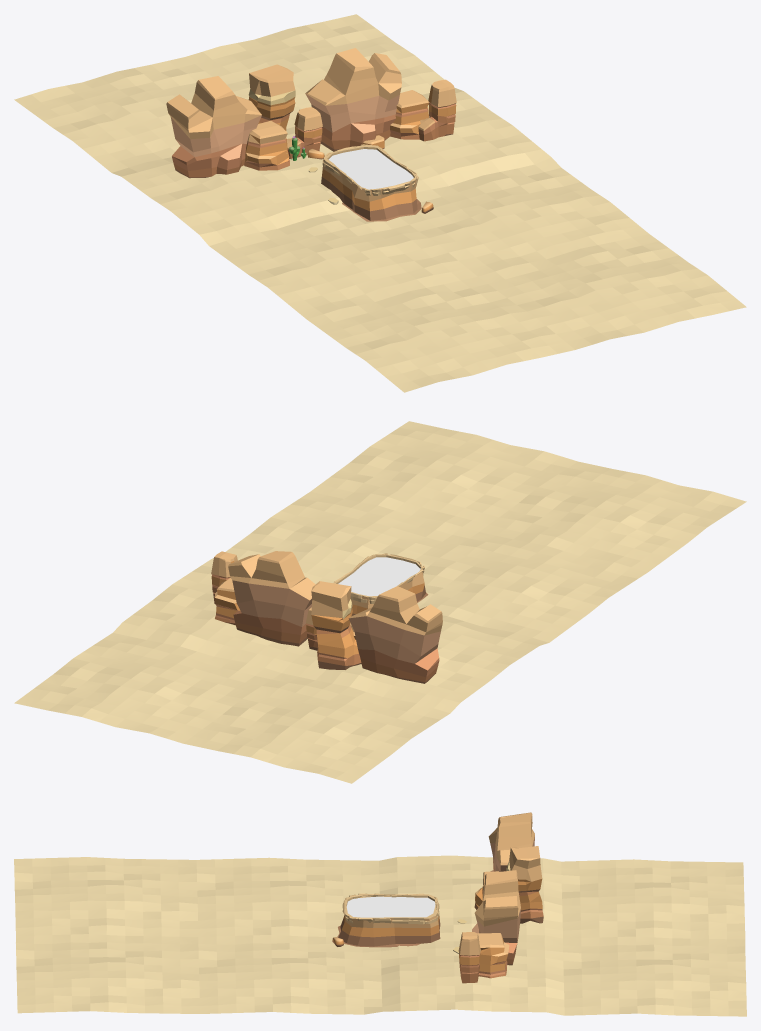
3 views of the same model, one above another, from view 1: azimuth 30°, elevation 25°; view 2: azimuth 150°, elevation 25°; view 3: azimuth 270°, elevation 25° (orthographic). The views are drawn at different scales.
Parts seen in each view (by area): view 1: IceDecor02_0.004, DesertRock01_0.001, DesertRock05_0, DesertRock01_0.002, IceArena_0.003, DesertRock01_0.004, DesertRock01_0.003, DesertSidesBroken_0; view 2: IceDecor02_0.004, DesertRock01_0.001, DesertRock05_0, DesertRock01_0.002, IceArena_0.003, DesertRock01_0.004, DesertRock01_0.003; view 3: IceDecor02_0.004, IceArena_0.003, DesertRock05_0, DesertRock01_0.004, DesertRock01_0.002, DesertRock01_0.001, DesertSidesBroken_0.
Boxes of the visible parts, x1=… form: IceDecor02_0.004: x1=14, y1=14, x2=746, y2=392; DesertRock01_0.001: x1=166, y1=76, x2=433, y2=213; DesertRock05_0: x1=305, y1=48, x2=401, y2=151; DesertRock01_0.002: x1=244, y1=64, x2=322, y2=170; IceArena_0.003: x1=321, y1=144, x2=421, y2=221; DesertRock01_0.004: x1=390, y1=79, x2=456, y2=141; DesertRock01_0.003: x1=311, y1=104, x2=396, y2=132; DesertSidesBroken_0: x1=322, y1=144, x2=418, y2=195; IceDecor02_0.004: x1=14, y1=421, x2=746, y2=783; DesertRock01_0.001: x1=348, y1=586, x2=442, y2=683; DesertRock05_0: x1=228, y1=551, x2=315, y2=646; DesertRock01_0.002: x1=306, y1=581, x2=361, y2=669; IceArena_0.003: x1=333, y1=554, x2=428, y2=615; DesertRock01_0.004: x1=211, y1=551, x2=240, y2=625; DesertRock01_0.003: x1=237, y1=600, x2=311, y2=626; IceDecor02_0.004: x1=14, y1=855, x2=746, y2=1016; IceArena_0.003: x1=337, y1=894, x2=440, y2=947; DesertRock05_0: x1=472, y1=870, x2=520, y2=965; DesertRock01_0.004: x1=458, y1=932, x2=509, y2=983; DesertRock01_0.002: x1=474, y1=846, x2=543, y2=923; DesertRock01_0.001: x1=332, y1=812, x2=534, y2=946; DesertSidesBroken_0: x1=342, y1=893, x2=439, y2=924.
Size of the model in its own units: 2026 by 491 by 3985.
